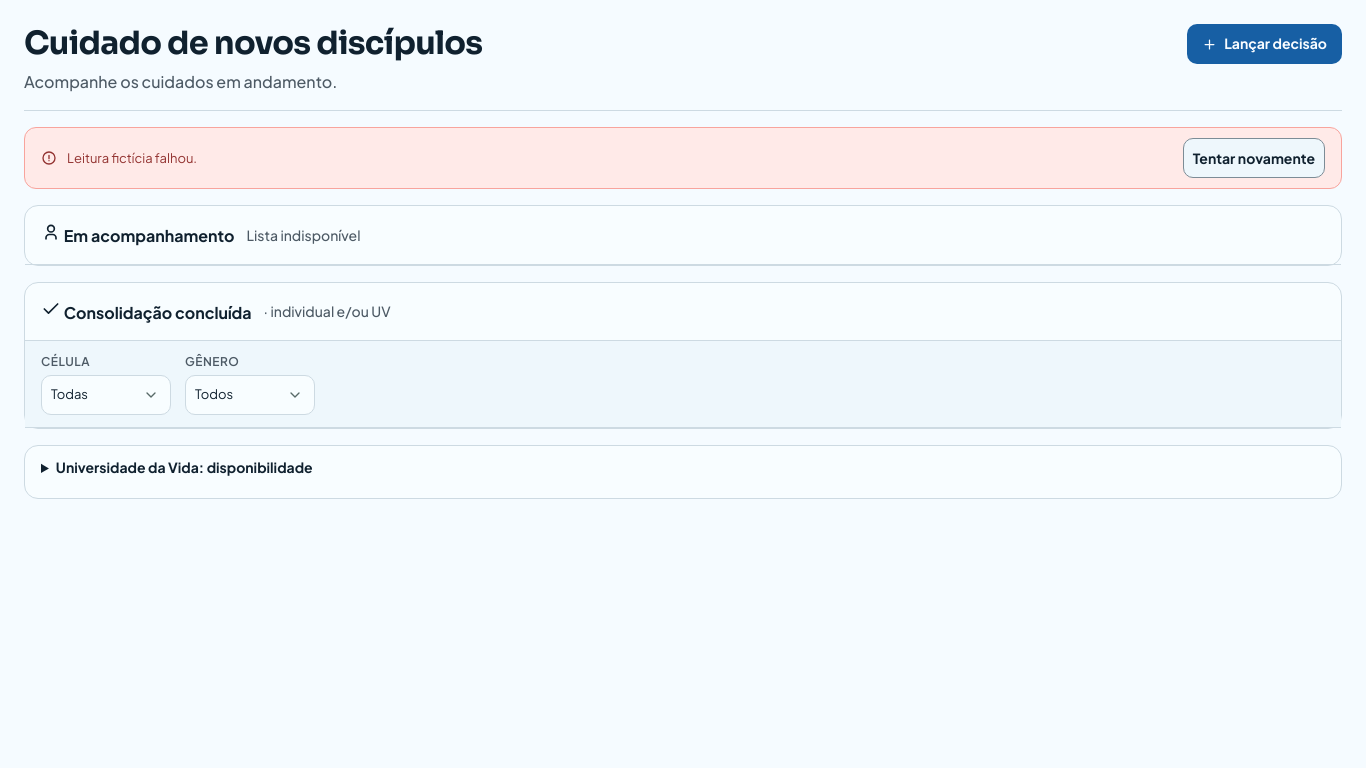
Consolidar, erro de leitura › falha inicial oferece retry e só declara vazio depois de leitura confirmada
Expected: the message "Leitura fictícia falhou. Tentar novamente" is shown, [24,127,1342,189]
Expected: the text "Nenhum" is not shown
Click the button "Tentar novamente" at (1254, 158), box [1183,138,1325,178]
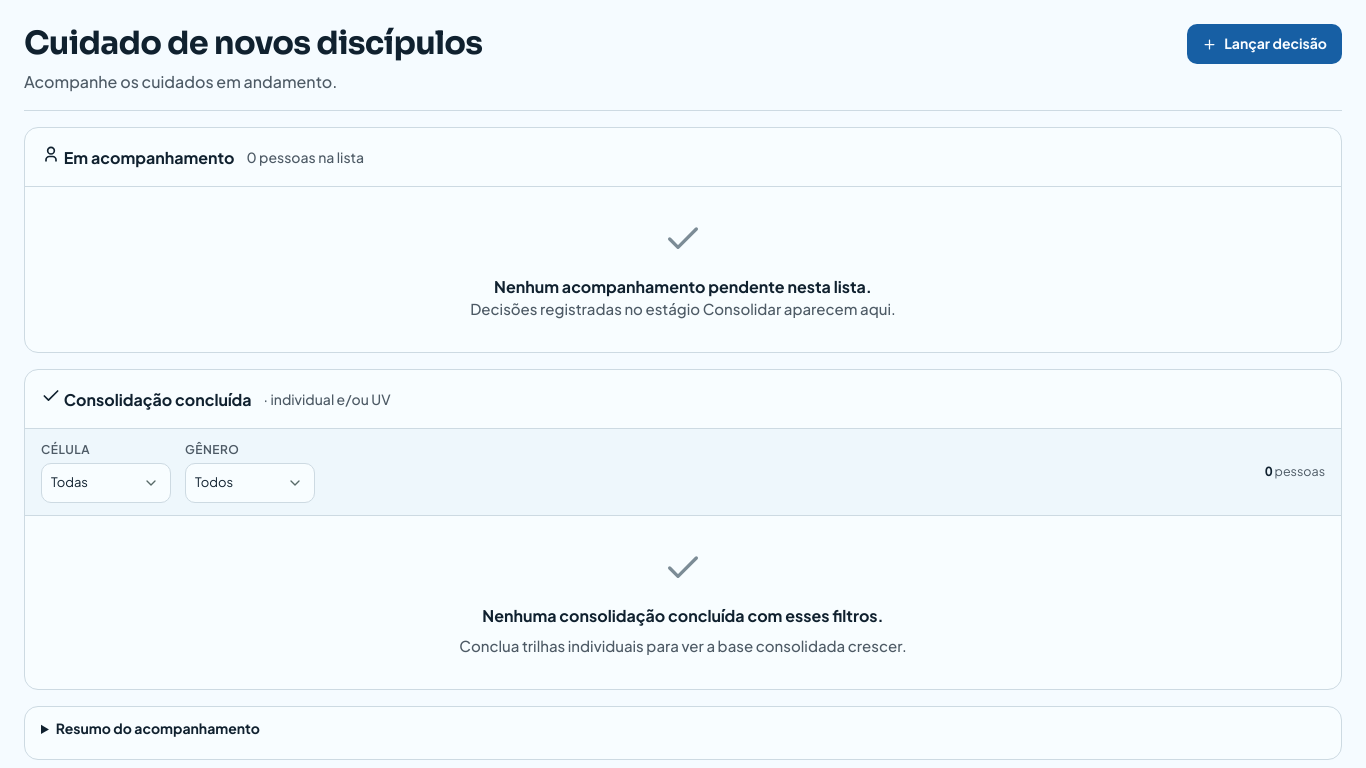
Expected: the message "Leitura fictícia falhou. Tentar novamente" is gone
Expected: the text "Nenhum acompanhamento pendente nesta lista." is shown, [494,276,872,297]
